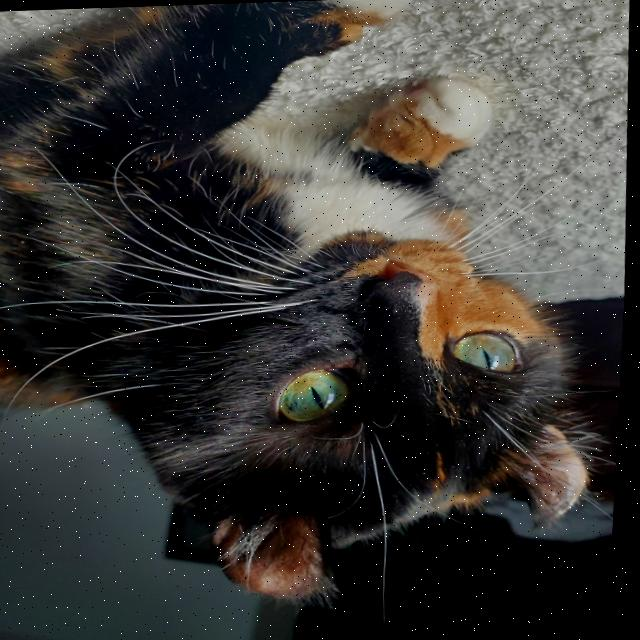American Curl: (0, 0, 625, 615)
